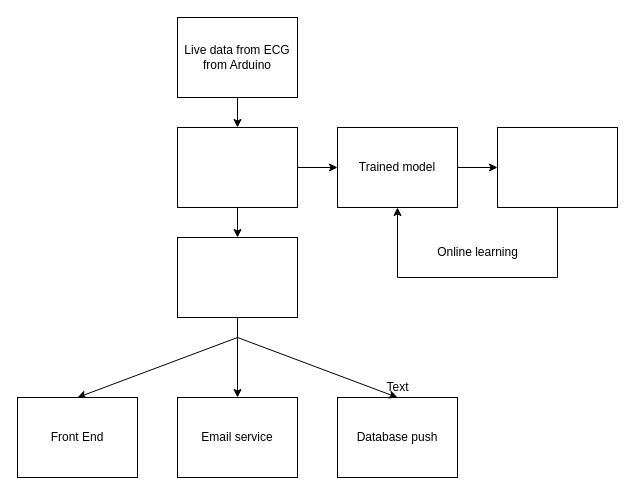
Some shapes in this 635 by 495 pixel diagram are drawn without their labels. The centre of each missing label's shape, as x and y in pixels:
"Classification data - Quality of reading" belongs at point 557,167.
"Flask Based Webapp" belongs at point 237,277.
"Preprocessing" belongs at point 237,167.
